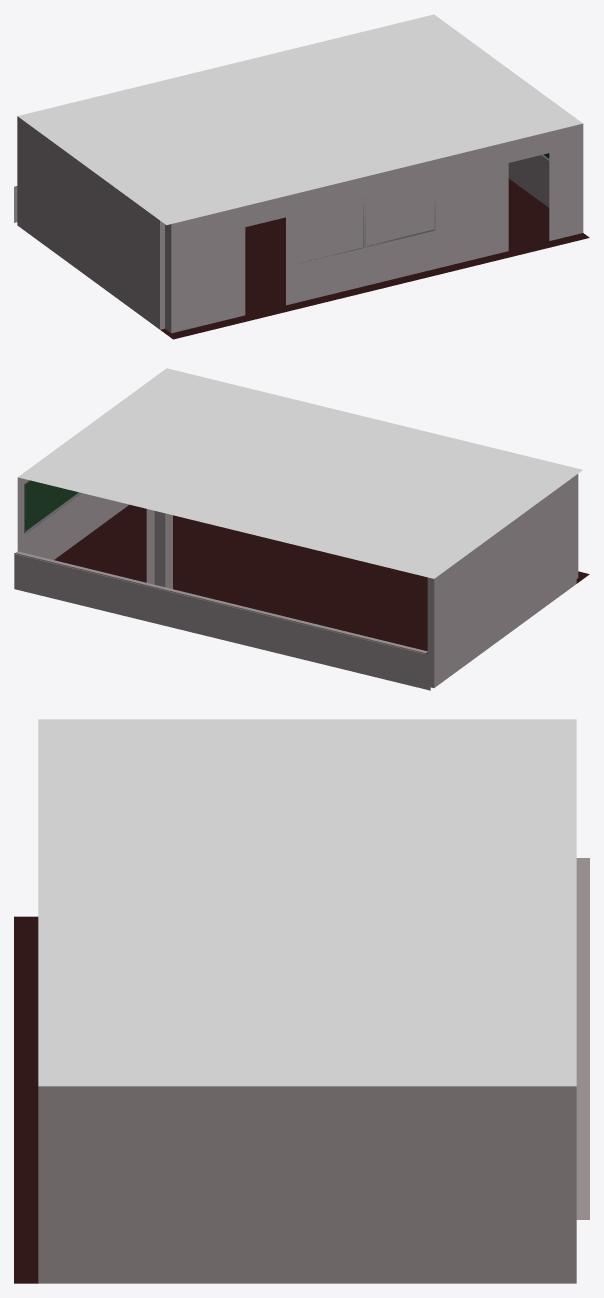
The picture shows the model from 3 angles, top to bottom: view 1: azimuth 30°, elevation 25°; view 2: azimuth 150°, elevation 25°; view 3: azimuth 270°, elevation 25°; orthographic projection. The views are drawn at different scales.
Visible parts, largest first — view 1: conference.005, conference.001, conference.004; view 2: conference.005, conference.001, conference.004, conference.011; view 3: conference.005, conference.001, conference.004.
Part boxes in pixels (x1,y1,x2,y2): conference.005: [17, 14, 582, 225]; conference.001: [14, 116, 583, 333]; conference.004: [160, 178, 589, 339]; conference.005: [18, 368, 582, 578]; conference.001: [14, 474, 578, 690]; conference.004: [54, 504, 589, 653]; conference.011: [25, 480, 78, 531]; conference.005: [38, 719, 576, 1086]; conference.001: [38, 858, 589, 1283]; conference.004: [14, 916, 38, 1283].
Bounding box in the file's own units: 26 × 6.52 × 17.24.
